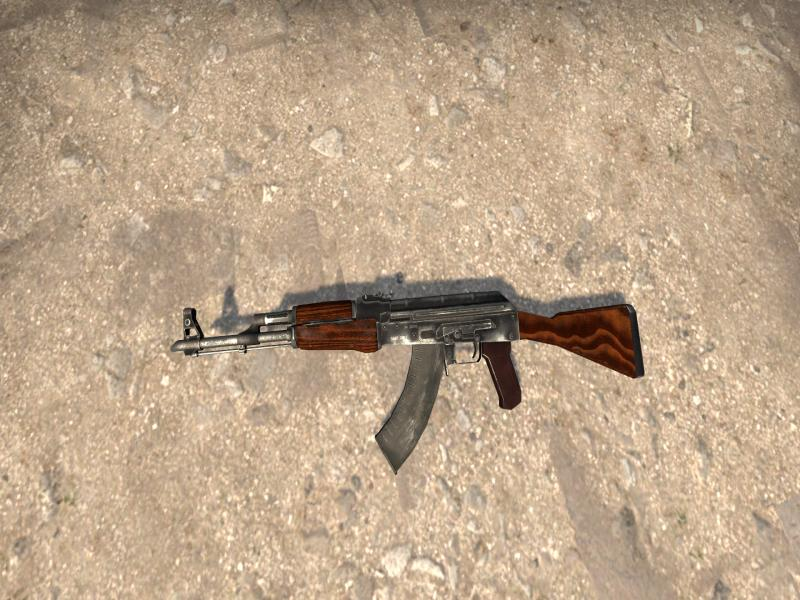AK47: (171, 291, 645, 471)
